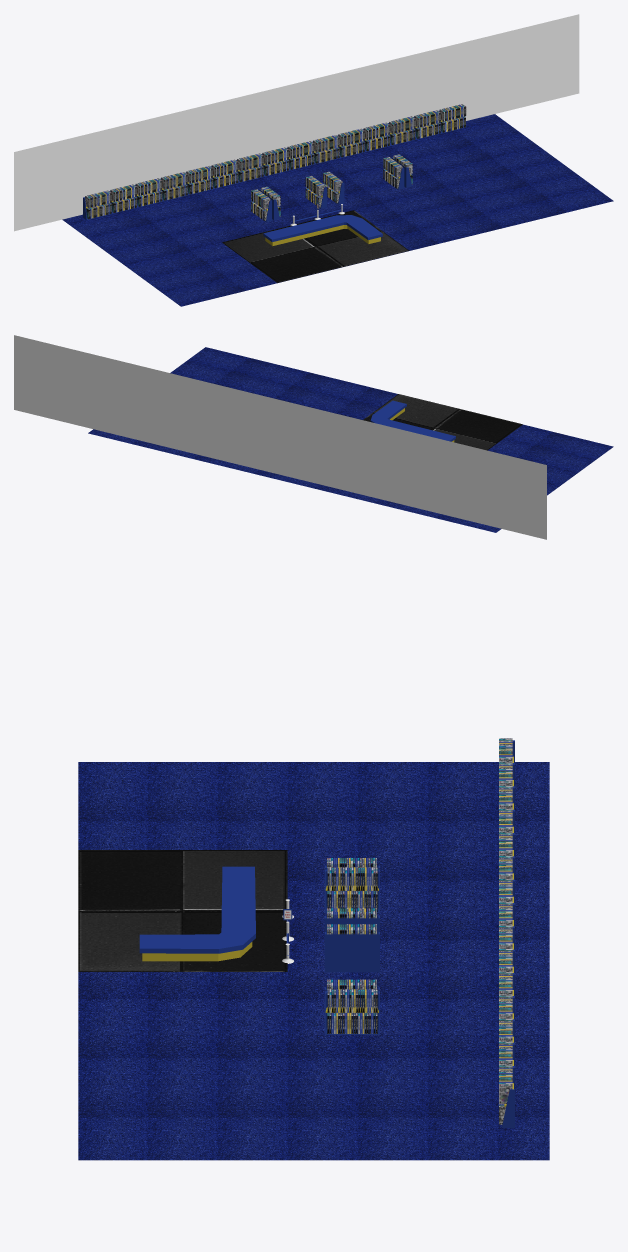
The model's file is Rental Mini Game - Level - R3 - Export V1.glb.
3 views of the same model, one above another, from view 1: azimuth 30°, elevation 25°; view 2: azimuth 150°, elevation 25°; view 3: azimuth 270°, elevation 25° (orthographic). The views are drawn at different scales.
Visible parts, largest first — view 1: Floor.Carpet, Plane, GameShelving.010, Floor.Counter, Counter.001, GameShelving.016, GameShelving.013, GameShelving.011, GameShelving.012; view 2: Plane, Floor.Carpet, Floor.Counter, Counter.001; view 3: Floor.Carpet, Floor.Counter, GameShelving.010, Counter.001, GameShelving.012, GameShelving.014, GameShelving.015, GameShelving.013.
Boxes of the visible parts, x1=… form: Floor.Carpet: x1=62, y1=114, x2=613, y2=306; Plane: x1=14, y1=14, x2=579, y2=231; GameShelving.010: x1=83, y1=104, x2=466, y2=220; Floor.Counter: x1=222, y1=210, x2=409, y2=282; Counter.001: x1=263, y1=215, x2=382, y2=246; GameShelving.016: x1=383, y1=157, x2=404, y2=189; GameShelving.013: x1=305, y1=176, x2=326, y2=208; GameShelving.011: x1=251, y1=189, x2=271, y2=222; GameShelving.012: x1=323, y1=171, x2=344, y2=204; Plane: x1=14, y1=335, x2=546, y2=539; Floor.Carpet: x1=88, y1=347, x2=613, y2=532; Floor.Counter: x1=363, y1=394, x2=522, y2=450; Counter.001: x1=370, y1=400, x2=455, y2=442; Floor.Carpet: x1=78, y1=762, x2=549, y2=1160; Floor.Counter: x1=78, y1=850, x2=287, y2=971; GameShelving.010: x1=499, y1=738, x2=514, y2=1127; Counter.001: x1=139, y1=866, x2=255, y2=961; GameShelving.012: x1=324, y1=924, x2=379, y2=972; GameShelving.014: x1=324, y1=989, x2=379, y2=1034; GameShelving.015: x1=324, y1=867, x2=379, y2=912; GameShelving.013: x1=324, y1=908, x2=379, y2=934.
Bounding box in the file's own units: 47 × 6.3 × 18.
66 materials, 45 textured.
